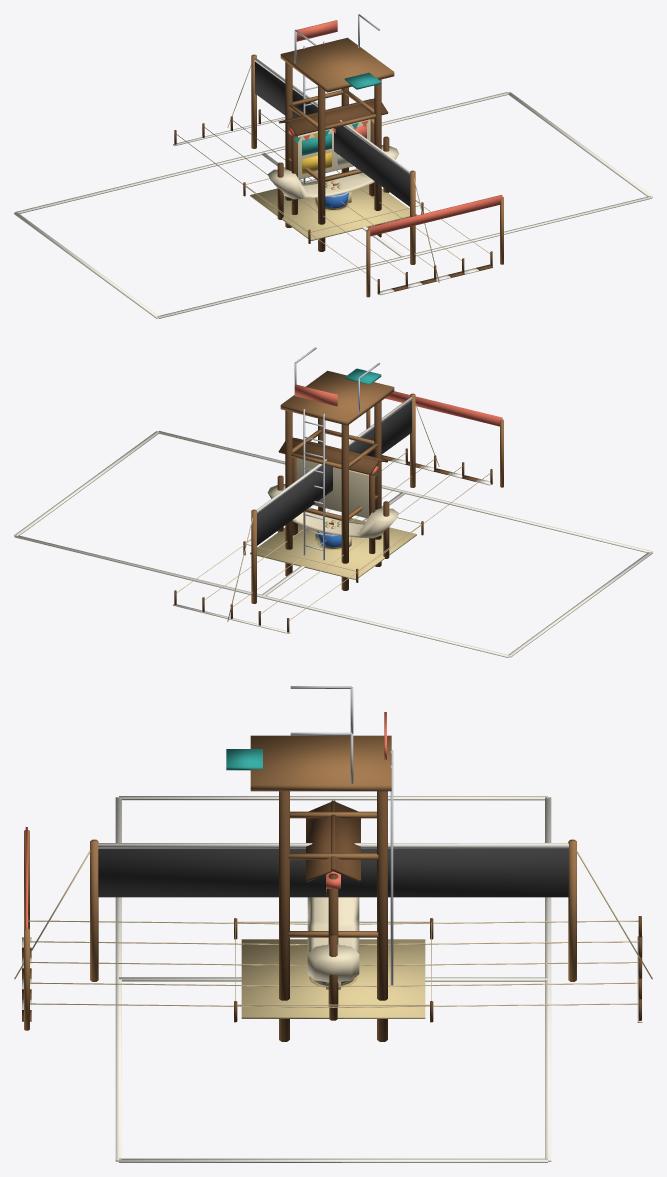
The model's file is beachgames.glb.
3 views of the same model, one above another, from view 1: azimuth 30°, elevation 25°; view 2: azimuth 150°, elevation 25°; view 3: azimuth 270°, elevation 25° (orthographic). The views are drawn at different scales.
Parts seen in each view (by area): view 1: bg_dive_tower, bg_vb_net, bg_vb_lines, bg_plot, bg_track, bg_board, bg_hammock; view 2: bg_dive_tower, bg_vb_net, bg_vb_lines, bg_plot, bg_track, bg_board, bg_hammock; view 3: bg_vb_net, bg_dive_tower, bg_plot, bg_vb_lines, bg_track, bg_board, bg_hammock.
Part boxes in pixels (x1,y1,x2,y2): bg_dive_tower: [280, 14, 394, 251]; bg_vb_net: [227, 54, 439, 282]; bg_vb_lines: [14, 92, 652, 318]; bg_plot: [243, 168, 423, 243]; bg_track: [173, 109, 503, 297]; bg_board: [278, 98, 388, 214]; bg_hammock: [267, 136, 399, 219]; bg_dive_tower: [280, 347, 394, 590]; bg_vb_net: [227, 393, 439, 621]; bg_vb_lines: [14, 431, 652, 657]; bg_plot: [243, 507, 423, 582]; bg_track: [173, 391, 503, 633]; bg_board: [278, 437, 388, 553]; bg_hammock: [267, 475, 399, 558]; bg_vb_net: [14, 839, 652, 981]; bg_dive_tower: [226, 686, 393, 1041]; bg_plot: [234, 918, 433, 1022]; bg_vb_lines: [115, 796, 551, 1162]; bg_track: [22, 827, 642, 1030]; bg_board: [306, 800, 360, 1006]; bg_hammock: [307, 897, 359, 1020].
Size of the model in its own units: 14.1 by 5.57 by 10.42.
